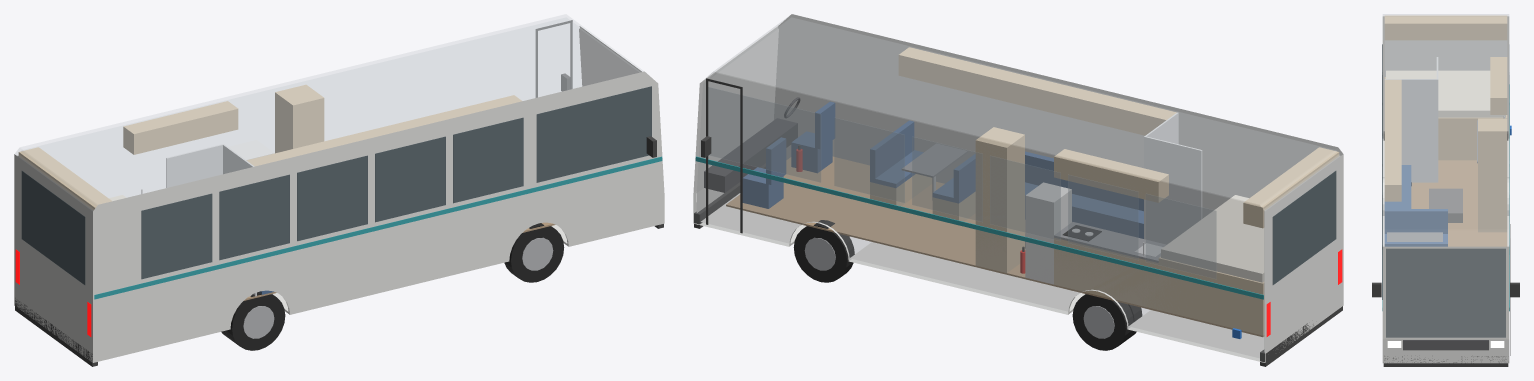
Rendered from ashokleyland_viking_5334wb.glb.
3 renders of one model, left to right at view 1: azimuth 30°, elevation 25°; view 2: azimuth 150°, elevation 25°; view 3: azimuth 270°, elevation 25°, orthographic. The views are drawn at different scales.
Visible parts, largest first — view 1: Body_Shell, Body_Cutaway_LeftWall_Roof, Window_Cab_Right, Window_Right_4, Window_Right_1, Window_Right_2, Window_Right_3, Window_Right_0, Window_Rear, Storage_Overhead_Left_Kitchen, Stripe_Right, Storage_Wardrobe_Tall (+10 smaller); view 2: Body_Cutaway_LeftWall_Roof, Body_Shell, Floor_Living, Storage_Overhead_Right, Window_Cab_Left, Storage_Wardrobe_Tall, Bed_Platform_Fixed_Rear, Bed_Mattress_Double, Window_Left_2, Window_Left_3, Window_Left_4, Window_Left_1 (+29 smaller); view 3: Body_Cutaway_LeftWall_Roof, Body_Shell, Windscreen, WetRoom_Wall_Front, Storage_Wardrobe_Tall, Floor_Living, Storage_Overhead_Rear, Bed_Mattress_Double, Storage_Overhead_Right, Bed_Platform_Fixed_Rear, Dinette_Bench_Rear_Backrest, Storage_Overhead_Left_Kitchen (+9 smaller).
Part boxes in pixels (x1,y1,x2,y2): Body_Shell: (14, 26, 664, 362); Body_Cutaway_LeftWall_Roof: (15, 14, 643, 210); Window_Cab_Right: (536, 86, 651, 182); Window_Right_4: (141, 193, 212, 279); Window_Right_1: (375, 136, 445, 222); Window_Right_2: (297, 155, 367, 241); Window_Right_3: (219, 174, 289, 260); Window_Right_0: (453, 117, 523, 203); Window_Rear: (21, 171, 85, 284); Storage_Overhead_Left_Kitchen: (123, 101, 238, 154); Stripe_Right: (94, 156, 662, 299); Storage_Wardrobe_Tall: (275, 85, 324, 153); Body_Cutaway_LeftWall_Roof: (694, 14, 1342, 362); Body_Shell: (693, 14, 1343, 362); Floor_Living: (726, 156, 1264, 337); Storage_Overhead_Right: (898, 47, 1176, 135); Window_Cab_Left: (708, 87, 820, 182); Storage_Wardrobe_Tall: (975, 127, 1024, 272); Bed_Platform_Fixed_Rear: (1158, 257, 1264, 335); Bed_Mattress_Double: (1161, 195, 1264, 282); Window_Left_2: (990, 156, 1060, 240); Window_Left_3: (1068, 175, 1138, 259); Window_Left_4: (1146, 194, 1216, 278); Window_Left_1: (912, 137, 982, 221); Body_Cutaway_LeftWall_Roof: (1383, 14, 1508, 246); Body_Shell: (1382, 16, 1509, 363); Windscreen: (1386, 248, 1505, 337); WetRoom_Wall_Front: (1385, 79, 1438, 182); Storage_Wardrobe_Tall: (1478, 118, 1507, 232); Floor_Living: (1411, 160, 1507, 246); Storage_Overhead_Rear: (1384, 15, 1507, 40); Bed_Mattress_Double: (1386, 70, 1505, 117); Storage_Overhead_Right: (1384, 79, 1401, 201); Bed_Platform_Fixed_Rear: (1384, 77, 1507, 160); Dinette_Bench_Rear_Backrest: (1384, 209, 1447, 233); Storage_Overhead_Left_Kitchen: (1490, 57, 1507, 114).
Size of the model in its own units: 10.95 by 3.4 by 3.04.
